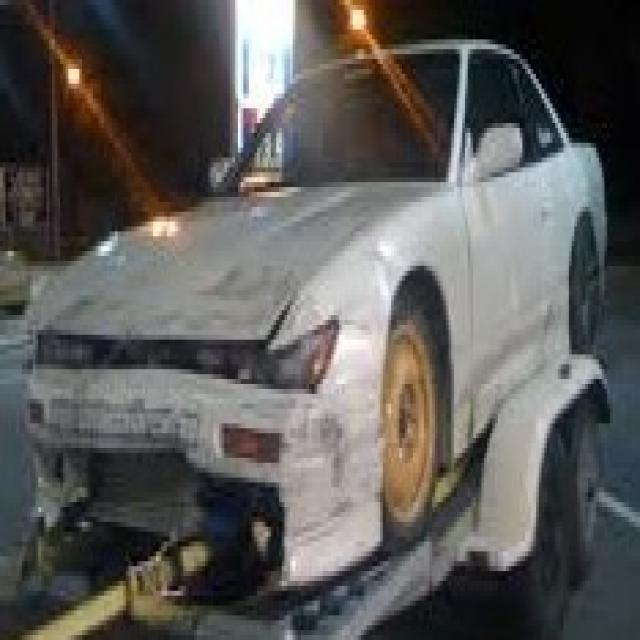minor: (9, 254, 357, 582)
